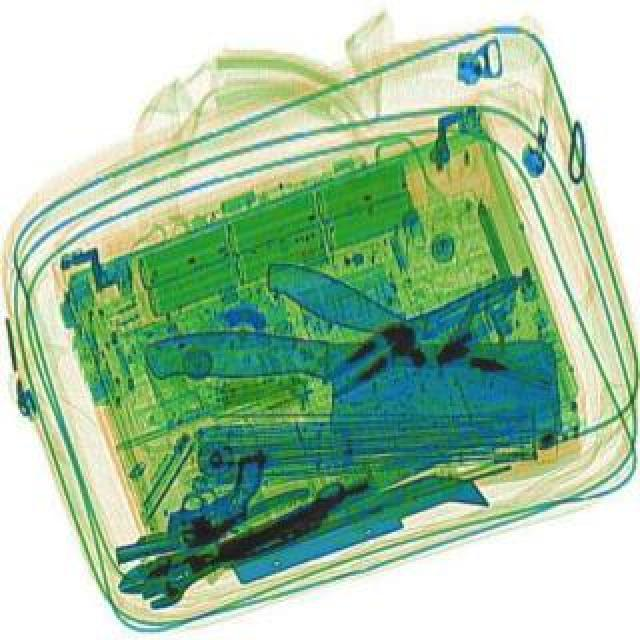gun: (98, 450, 282, 562)
knife: (142, 328, 558, 448), (256, 252, 558, 404)
scissors: (136, 480, 356, 614)
wrench: (102, 482, 326, 608)
